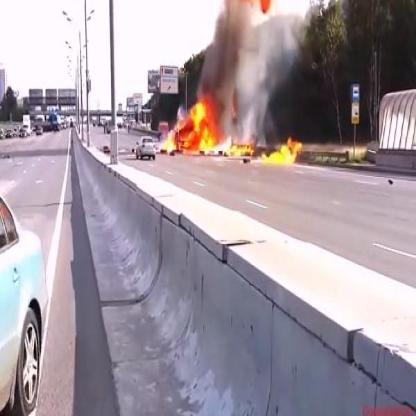fire: (162, 94, 222, 157), (256, 139, 310, 166), (222, 141, 255, 157)
